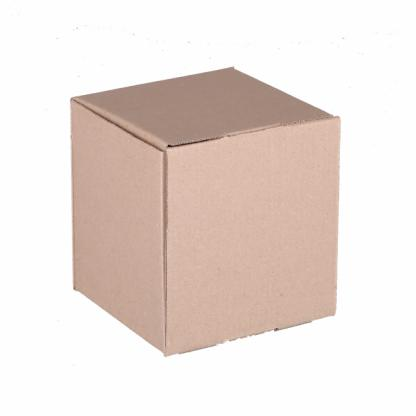box: (70, 64, 340, 358)
